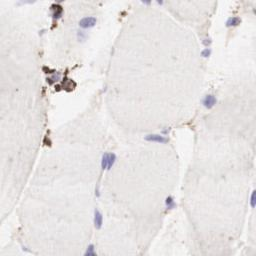nucleus: (143, 133, 172, 144), (92, 207, 104, 230), (201, 93, 217, 108), (78, 15, 96, 28), (225, 16, 243, 27), (76, 29, 89, 43), (51, 70, 64, 82), (166, 196, 177, 210), (83, 245, 96, 256), (249, 189, 256, 208), (200, 47, 212, 57), (109, 152, 116, 167), (102, 152, 108, 168), (94, 184, 100, 198), (16, 1, 36, 5), (201, 38, 212, 45), (38, 29, 46, 38), (52, 12, 59, 19), (142, 1, 152, 5), (157, 1, 163, 5)
positive_cell: (42, 66, 78, 93), (48, 3, 64, 31)
